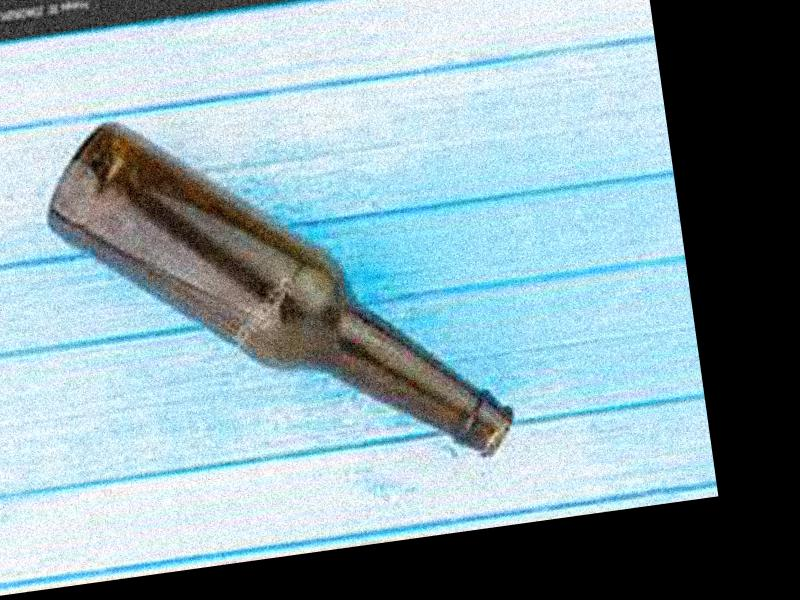Beer: (34, 67, 515, 513)
